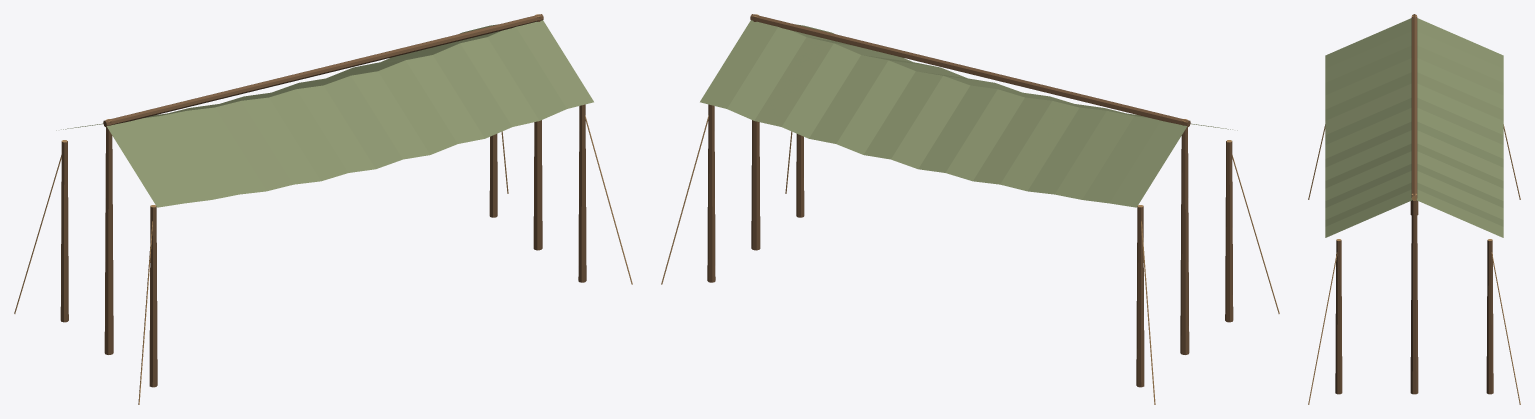
File: canopy.glb
3 views of the same model, side by side, from view 1: azimuth 30°, elevation 25°; view 2: azimuth 150°, elevation 25°; view 3: azimuth 270°, elevation 25° (orthographic). The views are drawn at different scales.
Parts seen in each view (by area): view 1: Canopy • sagging waxed canvas, ridge and lashings.001; view 2: Canopy • sagging waxed canvas, ridge and lashings.001; view 3: Canopy • sagging waxed canvas, ridge and lashings.001.
Boxes of the visible parts, x1,y1,x2,y2 form: Canopy • sagging waxed canvas, ridge and lashings.001: (14, 14, 632, 404); Canopy • sagging waxed canvas, ridge and lashings.001: (661, 14, 1279, 404); Canopy • sagging waxed canvas, ridge and lashings.001: (1308, 14, 1520, 404).
Bounding box in the file's own units: 6.11 × 2.76 × 2.67.
